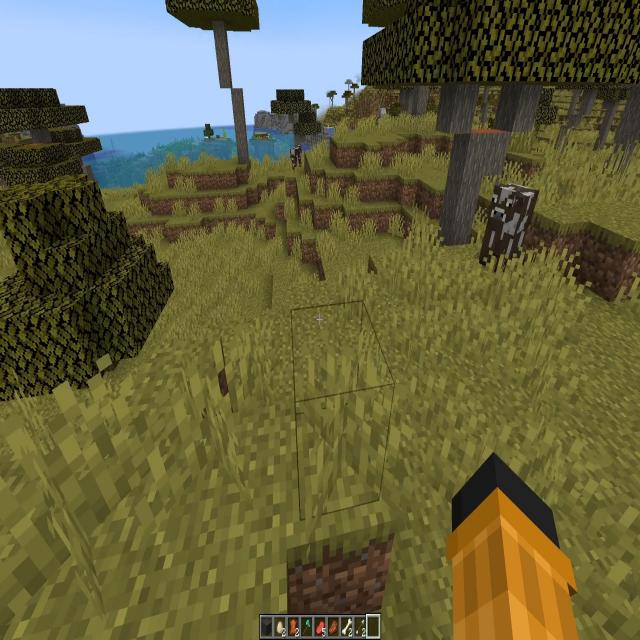Cow: (481, 184, 536, 268), (290, 144, 302, 168)
Skeleton: (378, 108, 387, 127)
